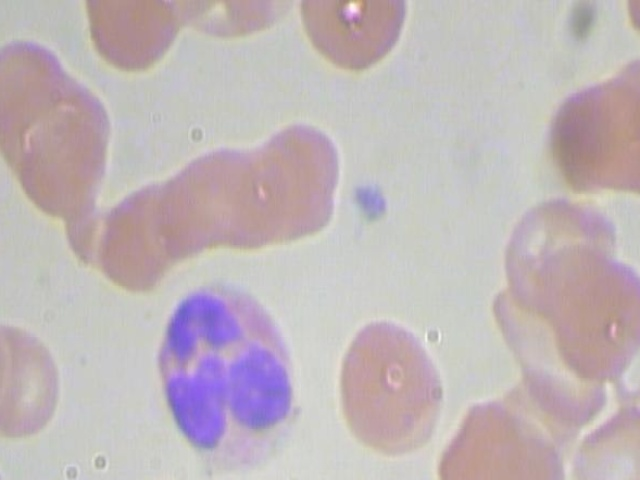Platelets: (346, 180, 396, 229)
RBC: (329, 313, 459, 452), (543, 249, 640, 392), (434, 387, 571, 480), (17, 107, 117, 218), (293, 0, 423, 85), (84, 182, 177, 297), (542, 75, 634, 189), (255, 108, 348, 214), (0, 30, 73, 145), (0, 323, 72, 437), (80, 0, 184, 75), (191, 0, 298, 53)
WBC: (140, 277, 307, 474)
